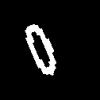chain: (26, 24, 55, 74)
